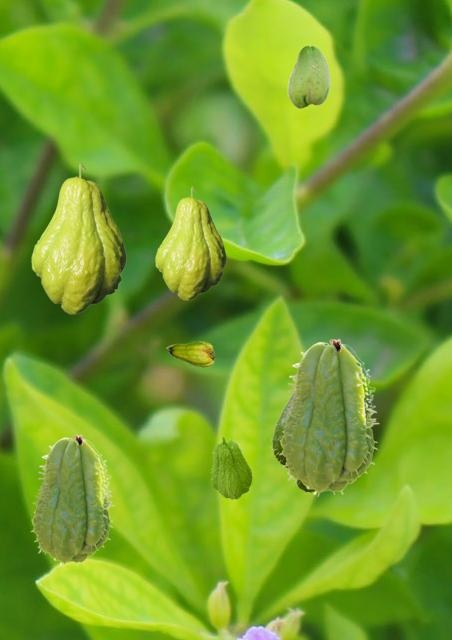sayote: (278, 338, 378, 496), (31, 162, 125, 313), (269, 375, 366, 493), (30, 434, 113, 566), (155, 186, 225, 299), (287, 45, 329, 107), (210, 436, 252, 498), (166, 341, 213, 366)
